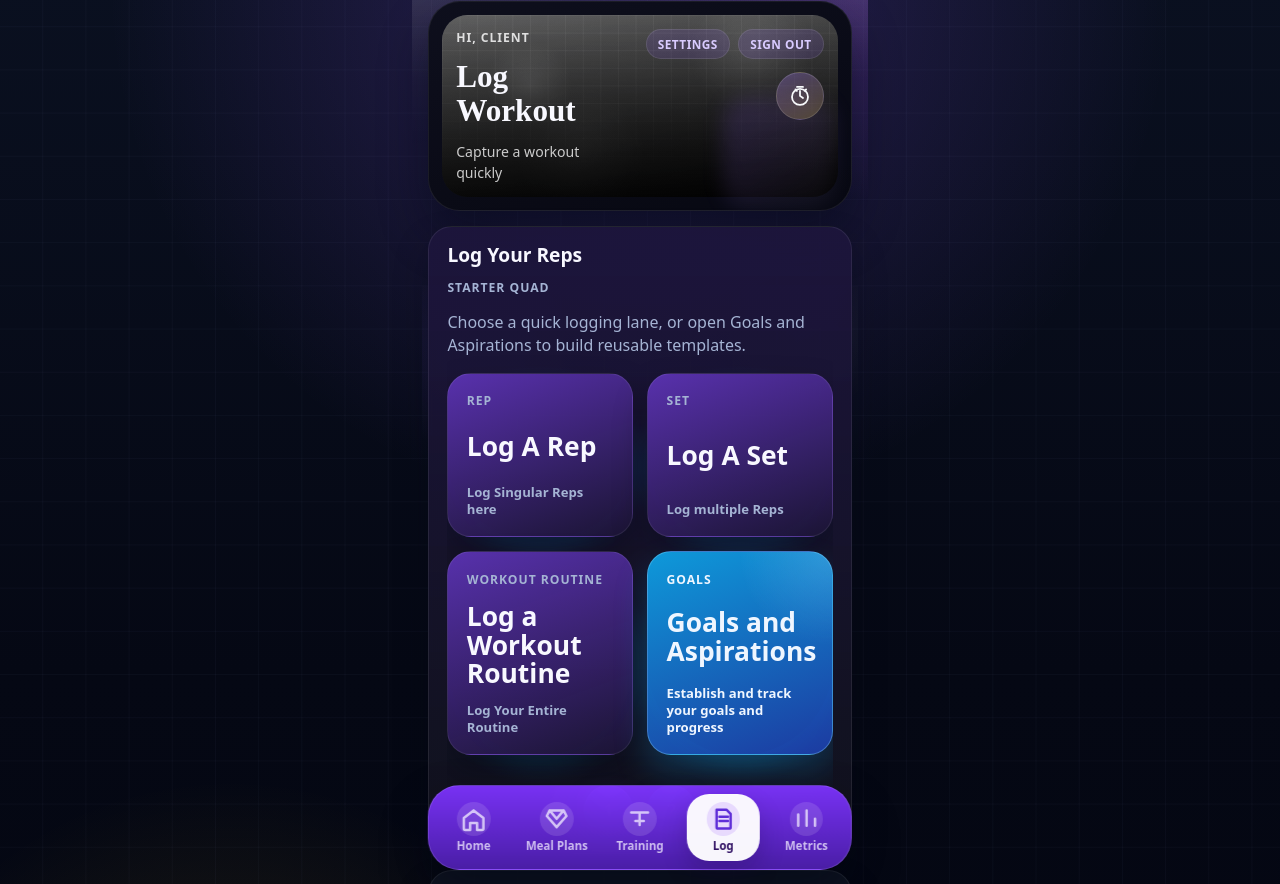
Test: AddLogPage mobile experience › renders the route and replaces the GO control with the workout timer picker
Check: the heading "Log Workout" is shown, box 456,59 -> 576,128
Check: the button "Sign Out" is shown, box 738,29 -> 824,59
Click the button named "Open workout timer" at x=800, y=96, box 776,72 -> 824,120
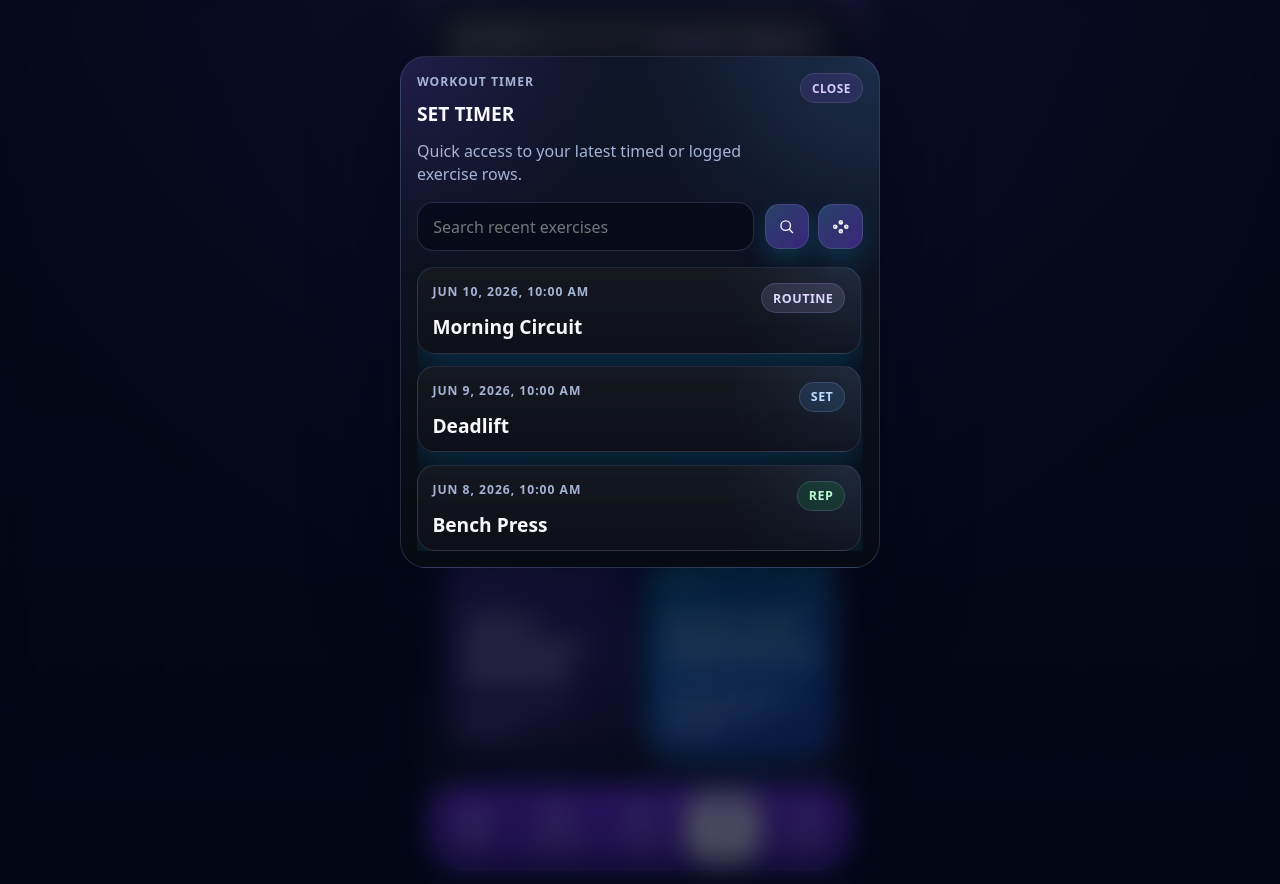
Check: the search field is shown, box 417,202 -> 754,252
Check: the button named "Search timer exercises" is shown, box 765,204 -> 809,249
Check: the button "Close" is shown
Click the button "Close" at x=831, y=88, box 800,73 -> 863,103
(page scrolled)
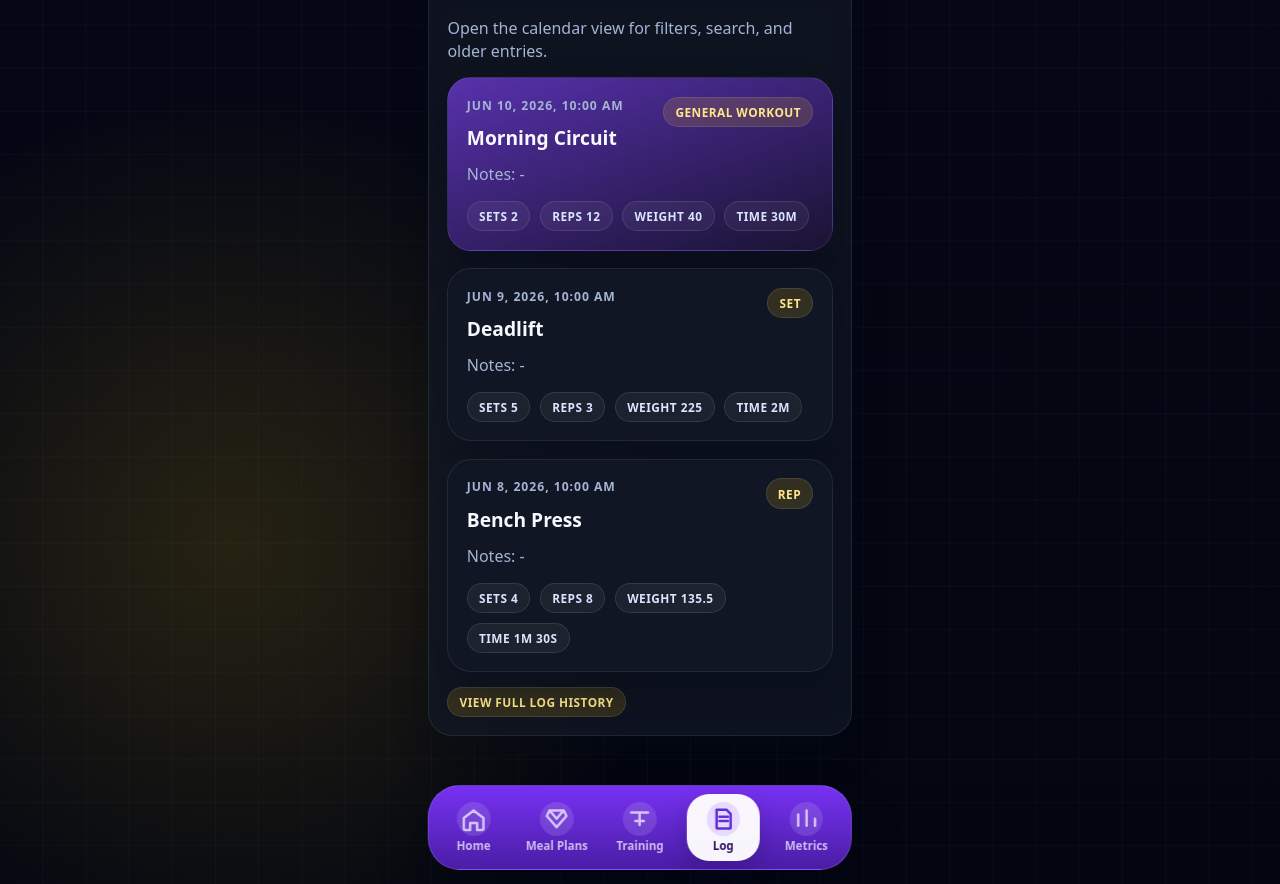
Check: the dialog "Log A Rep" is not shown
Check: the heading "SET TIMER" is gone
